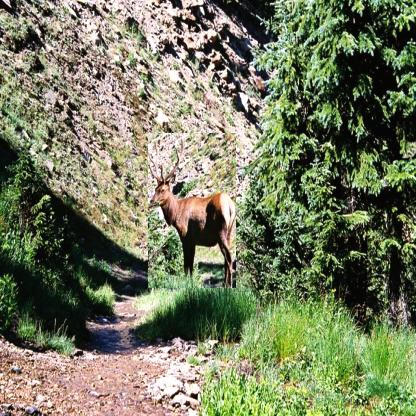Deer: (148, 133, 236, 288)
